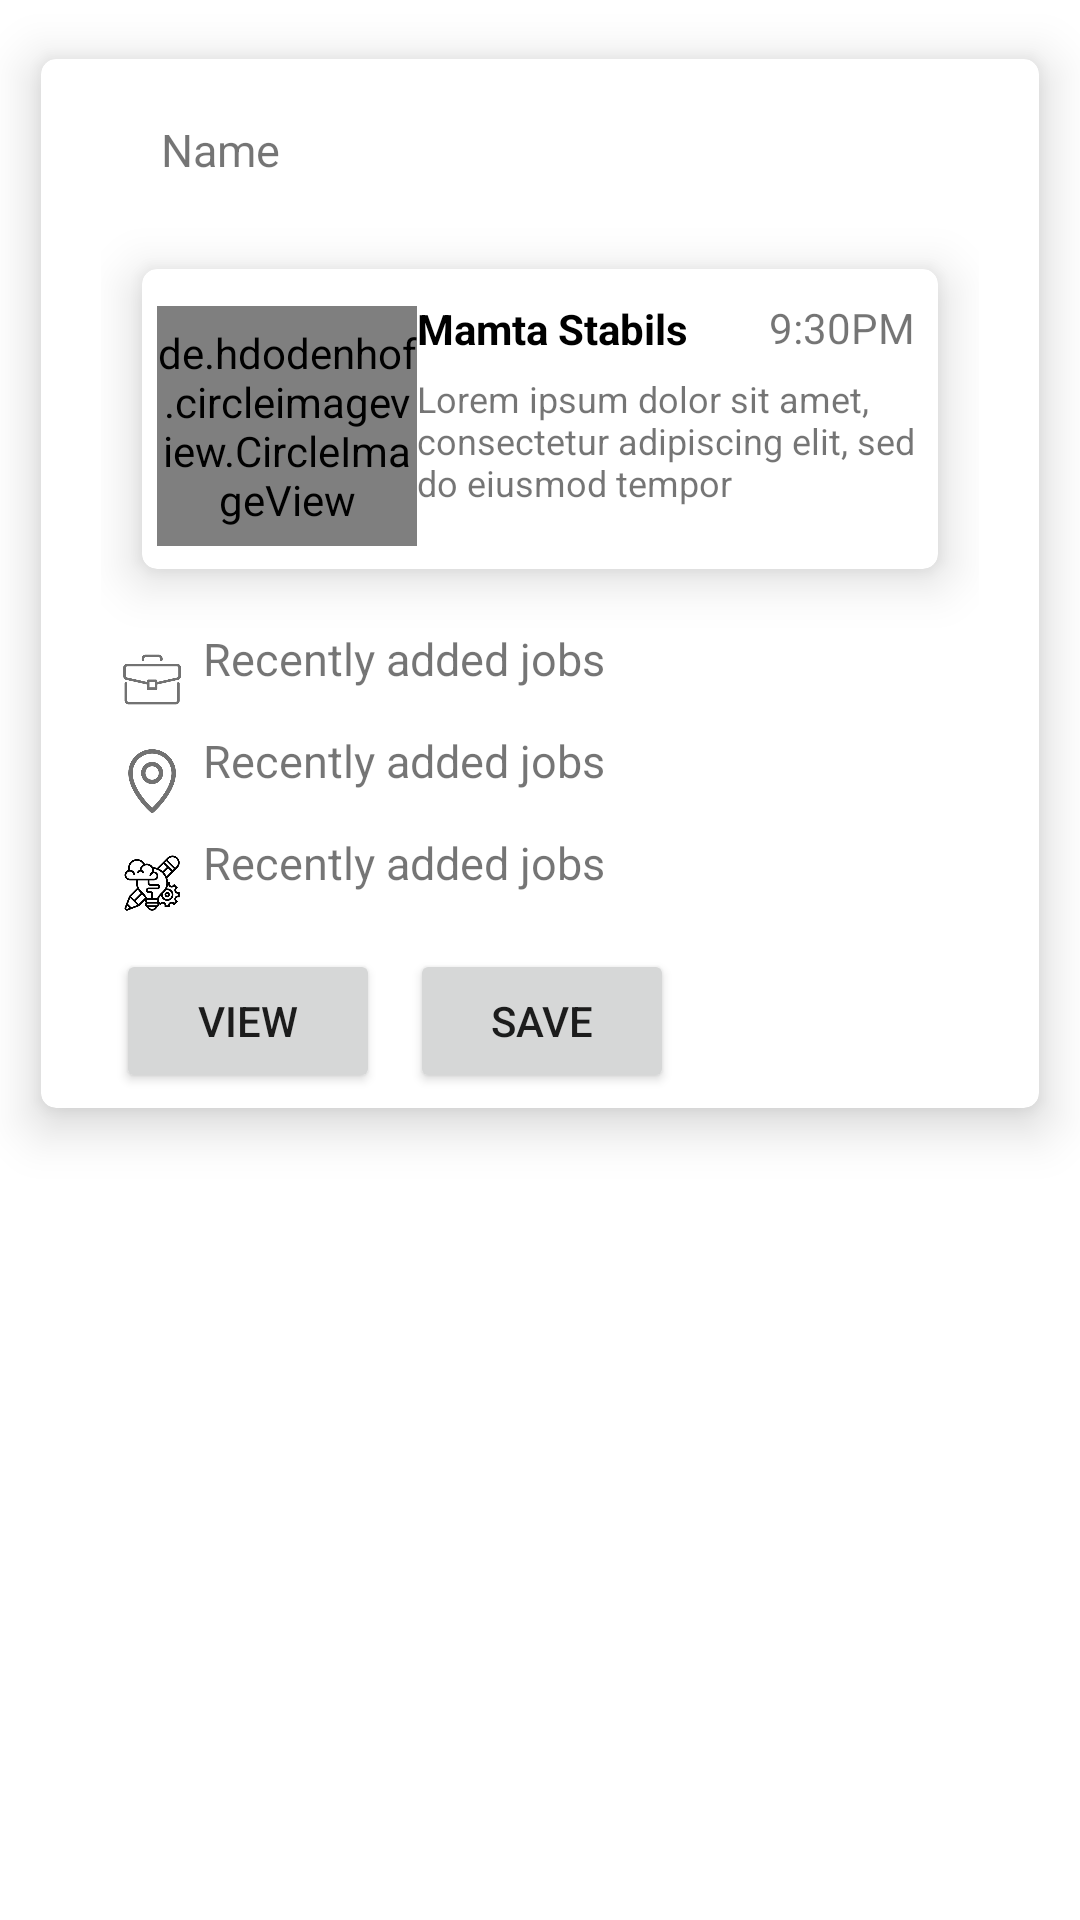

Point at icon controls on the screen. Image size 1080px×1920px, points as (x=x, y=y).
inovation: (x=152, y=883)
location: (x=152, y=781)
work: (x=152, y=679)
